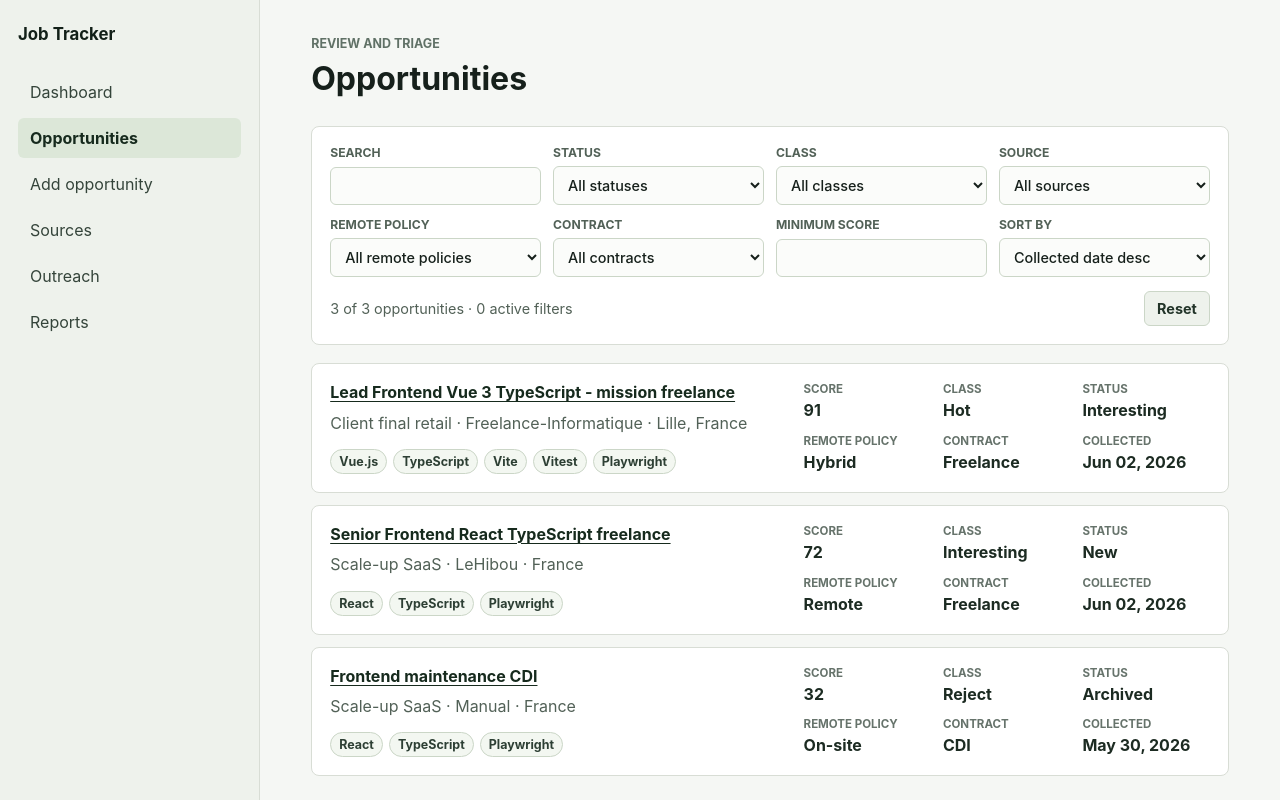
Test: OpportunitiesPage › resets filters after a narrowed search
In the search field labelled "Search": (436,186) [330,167,541,205], type "vue"
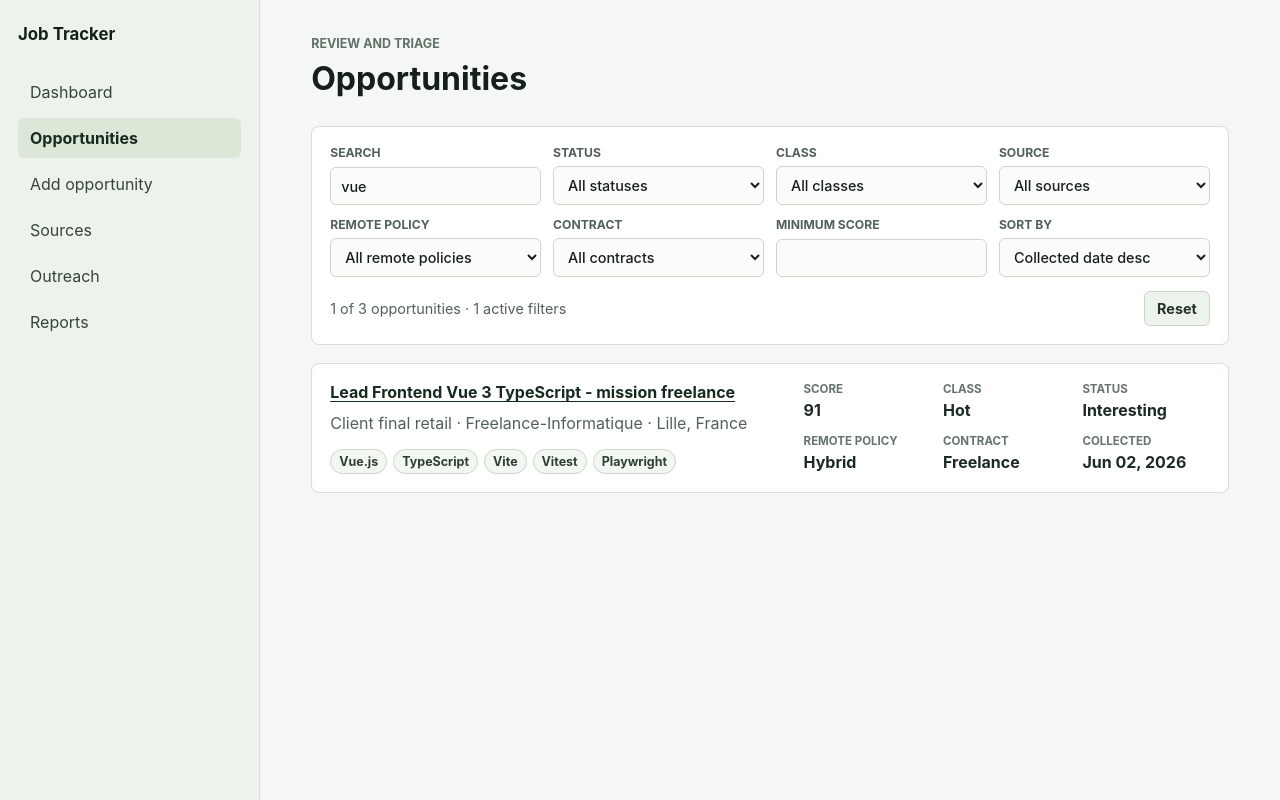
Select "interesting" in the dropdown labelled "Status": (659,186) [553,166,764,205]
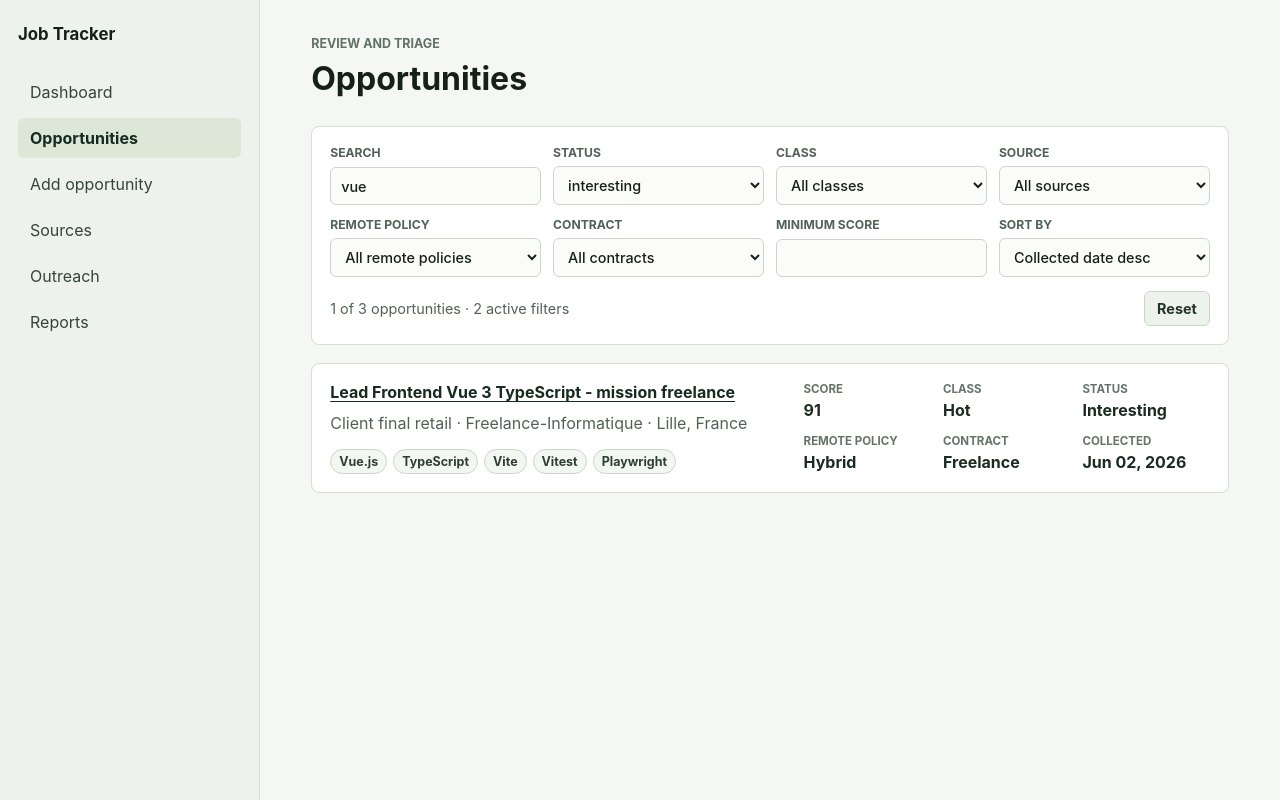
expect the element "Lead Frontend Vue 3 TypeScript - mission freelance" is shown: met, box [311,363,1229,493]
expect the link "Senior Frontend React TypeScript freelance" is not shown: met
Click the button "Reset": (1177,308) [1144,291,1210,326]
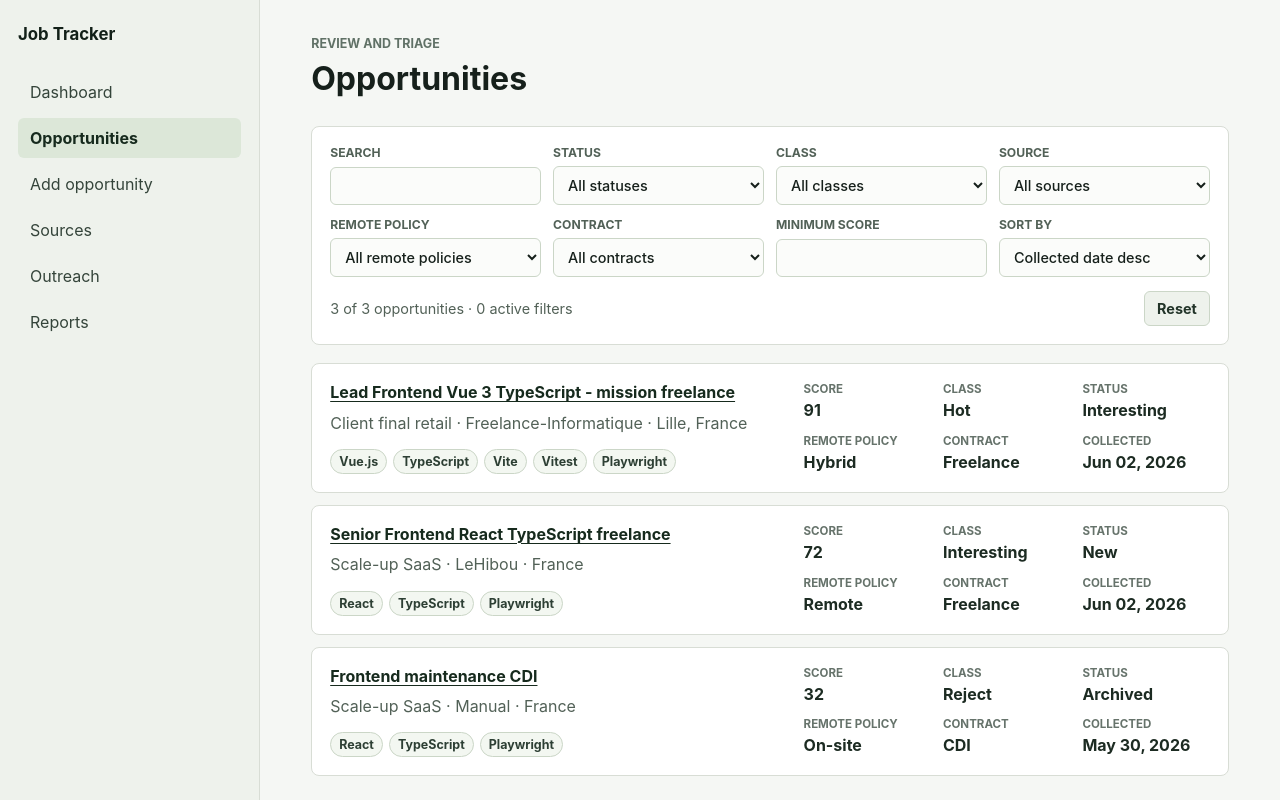
expect the element "Senior Frontend React TypeScript freelance" is shown: met, box [311,505,1229,635]
expect the element "Frontend maintenance CDI" is shown: met, box [311,647,1229,776]
expect the text "3 of 3 opportunities · 0 active filters" is shown: met, box [330,300,573,317]
